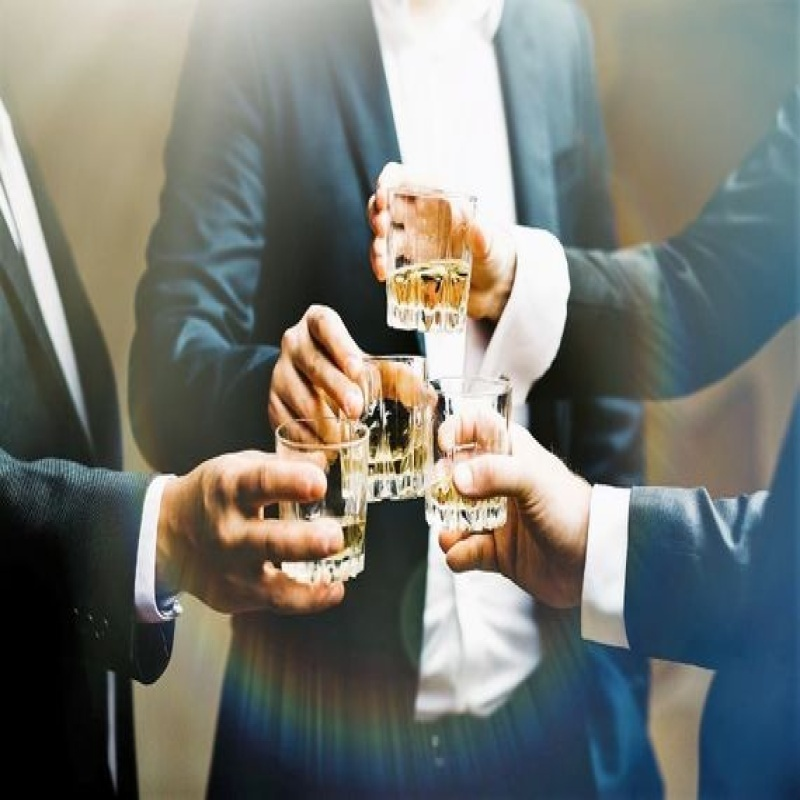whiskey: (261, 420, 367, 577), (380, 178, 482, 339), (421, 374, 521, 526)
